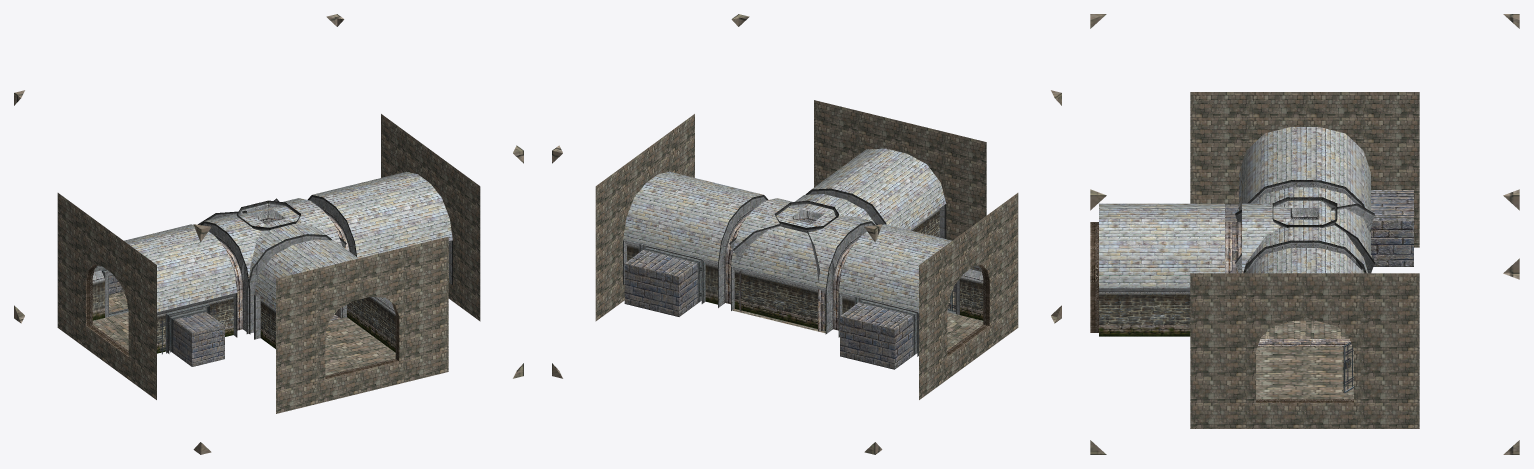
Rendered from lbg_3b.glb.
3 views of the same model, side by side, from view 1: azimuth 30°, elevation 25°; view 2: azimuth 150°, elevation 25°; view 3: azimuth 270°, elevation 25° (orthographic). The views are drawn at different scales.
Visible parts, largest first — view 1: lbg_3b; view 2: lbg_3b; view 3: lbg_3b.
Part boxes in pixels (<box>): lbg_3b: <box>14,14,523,454</box>; lbg_3b: <box>552,14,1061,454</box>; lbg_3b: <box>1090,14,1519,454</box>.
Bounding box in the file's own units: 15 × 10 × 15.
11 materials, 11 textured.
